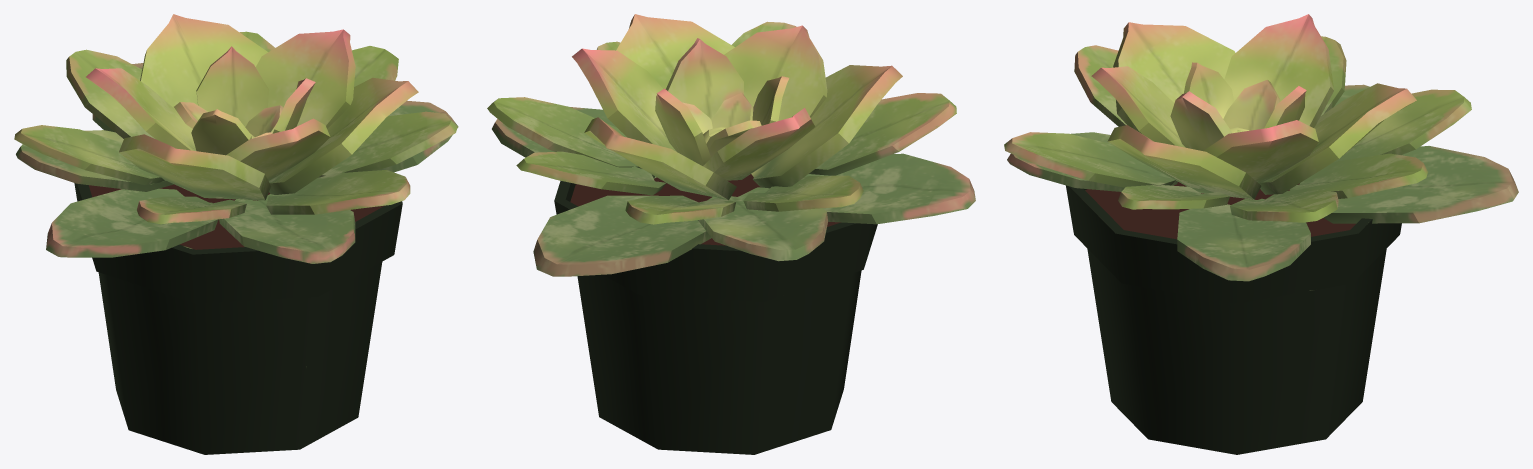
File: succulent.glb
3 renders of one model, left to right at view 1: azimuth 30°, elevation 25°; view 2: azimuth 150°, elevation 25°; view 3: azimuth 270°, elevation 25°, orthographic.
Parts seen in each view (by area): view 1: succulent_geo; view 2: succulent_geo; view 3: succulent_geo.
Boxes of the visible parts, x1,y1,x2,y2 form: succulent_geo: (14, 14, 458, 454); succulent_geo: (487, 14, 975, 454); succulent_geo: (1004, 14, 1518, 454).
Bounding box in the file's own units: 0.1797 × 0.1319 × 0.1831.
1 material, 1 textured.
